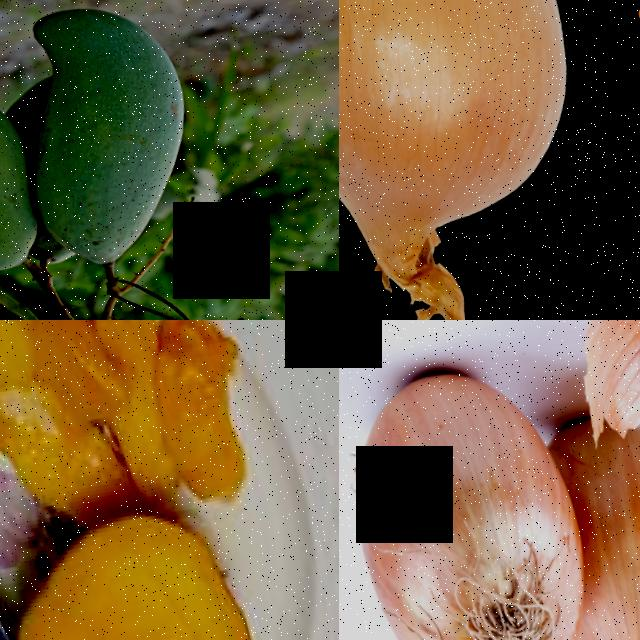mango: (0, 0, 211, 270), (0, 39, 47, 288)
onion: (339, 0, 612, 281), (339, 365, 586, 640), (544, 421, 640, 640)
